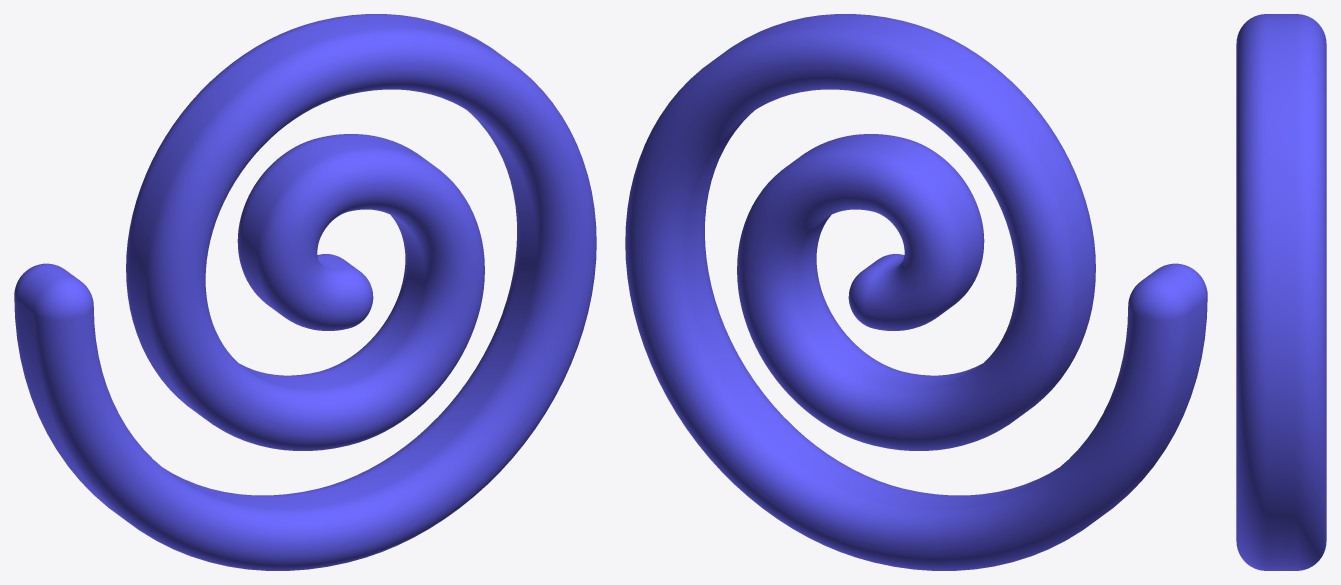
3 renders of one model, left to right at view 1: azimuth 30°, elevation 25°; view 2: azimuth 150°, elevation 25°; view 3: azimuth 270°, elevation 25°, orthographic. The views are drawn at different scales.
Parts seen in each view (by area): view 1: Curve.001; view 2: Curve.001; view 3: Curve.001.
Part boxes in pixels (x1,y1,x2,y2): Curve.001: (14, 14, 596, 570); Curve.001: (625, 14, 1207, 570); Curve.001: (1236, 14, 1326, 570).
Size of the model in its own units: 0.5645 by 0.5079 by 0.0813.
